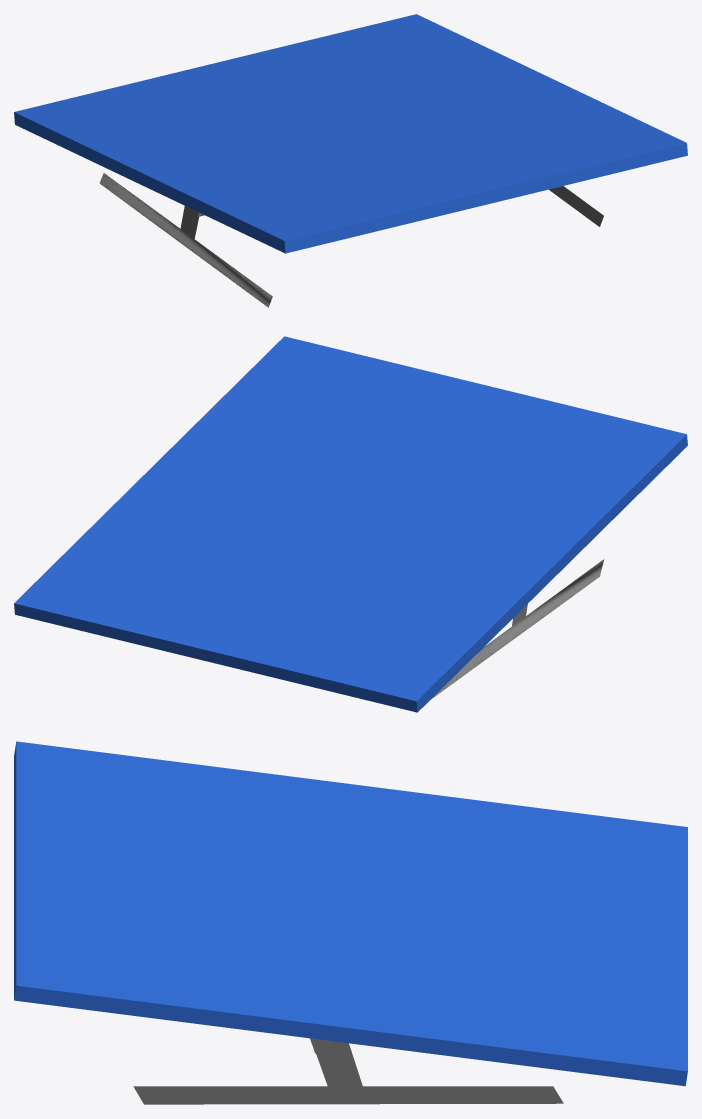
The model's file is sun_battary.fbx.
The picture shows the model from 3 angles, top to bottom: view 1: azimuth 30°, elevation 25°; view 2: azimuth 150°, elevation 25°; view 3: azimuth 270°, elevation 25°; orthographic projection. The views are drawn at different scales.
Parts seen in each view (by area): view 1: Object167; view 2: Object167; view 3: Object167.
Part boxes in pixels (<box>): Object167: <box>14,14,687,307</box>; Object167: <box>14,336,687,712</box>; Object167: <box>14,741,687,1104</box>.
Bounding box in the file's own units: 5.91 × 1.59 × 6.89.
1 material, 1 textured.
